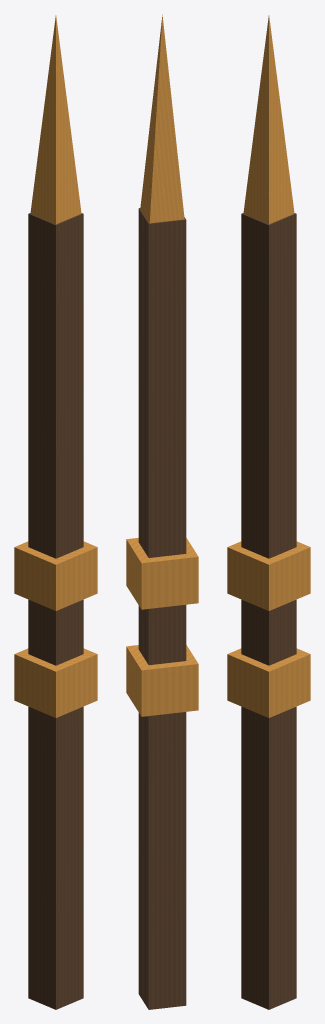
The model's file is atlas100-s014-a05.lod2.glb.
3 renders of one model, left to right at view 1: azimuth 90°, elevation 25°; view 2: azimuth 150°, elevation 25°; view 3: azimuth 270°, elevation 25°, orthographic.
Parts seen in each view (by area): view 1: atlas100-s014-a05:part-000, atlas100-s014-a05:part-004, atlas100-s014-a05:part-002, atlas100-s014-a05:part-003; view 2: atlas100-s014-a05:part-000, atlas100-s014-a05:part-004, atlas100-s014-a05:part-002, atlas100-s014-a05:part-003; view 3: atlas100-s014-a05:part-000, atlas100-s014-a05:part-004, atlas100-s014-a05:part-002, atlas100-s014-a05:part-003.
Boxes of the visible parts, left/top/right/bottom form: atlas100-s014-a05:part-000: left=28, top=213, right=83, bottom=1009; atlas100-s014-a05:part-004: left=30, top=15, right=81, bottom=224; atlas100-s014-a05:part-002: left=14, top=648, right=97, bottom=717; atlas100-s014-a05:part-003: left=14, top=541, right=97, bottom=610; atlas100-s014-a05:part-000: left=138, top=208, right=186, bottom=1009; atlas100-s014-a05:part-004: left=140, top=14, right=184, bottom=223; atlas100-s014-a05:part-002: left=126, top=645, right=198, bottom=716; atlas100-s014-a05:part-003: left=126, top=538, right=198, bottom=609; atlas100-s014-a05:part-000: left=241, top=213, right=296, bottom=1009; atlas100-s014-a05:part-004: left=243, top=15, right=294, bottom=224; atlas100-s014-a05:part-002: left=227, top=648, right=310, bottom=717; atlas100-s014-a05:part-003: left=227, top=541, right=310, bottom=610.
Bounding box in the file's own units: 0.1158 × 1.51 × 0.1158.
2 materials, 2 textured.
